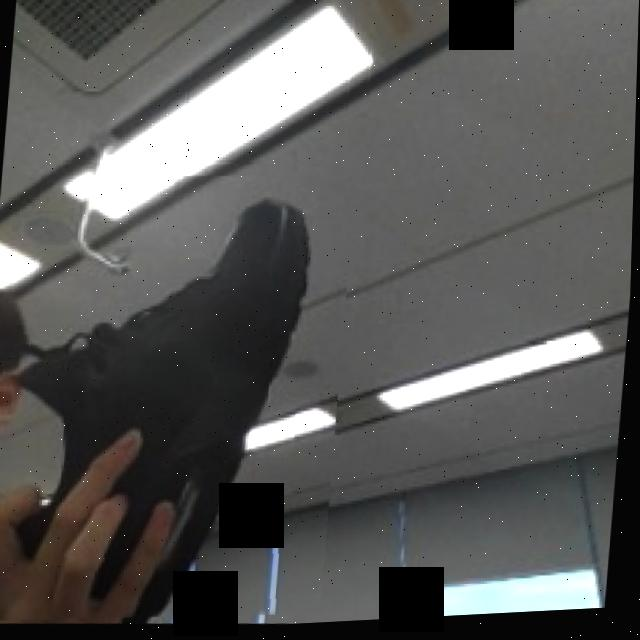shoe: (0, 162, 357, 638)
